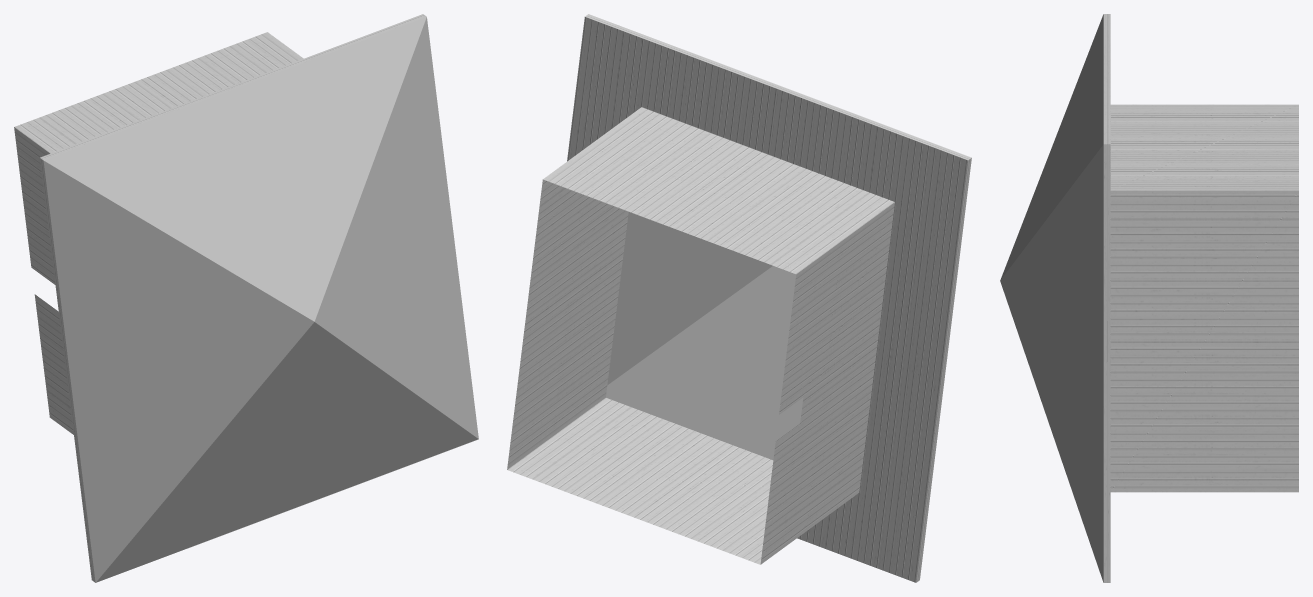
Rendered from Harju_6_2.obj.
3 views of the same model, side by side, from view 1: azimuth 30°, elevation 25°; view 2: azimuth 150°, elevation 25°; view 3: azimuth 270°, elevation 25° (orthographic). The views are drawn at different scales.
Visible parts, largest first — view 1: Harju_6_2; view 2: Harju_6_2; view 3: Harju_6_2.
Boxes of the visible parts, left/top/right/bottom form: Harju_6_2: left=14, top=14, right=478, bottom=582; Harju_6_2: left=507, top=14, right=971, bottom=582; Harju_6_2: left=1000, top=14, right=1298, bottom=582.
Bounding box in the file's own units: 6.65 × 7.09 × 4.15.
